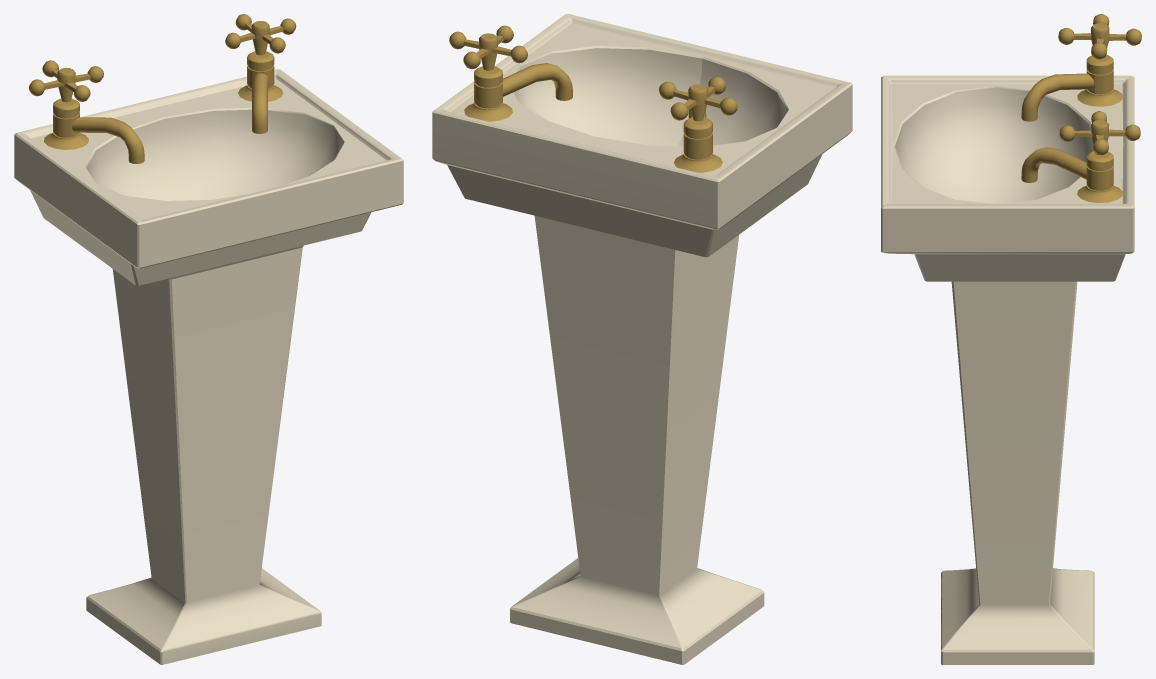
The model's file is BathroomSink.fbx.
3 renders of one model, left to right at view 1: azimuth 30°, elevation 25°; view 2: azimuth 150°, elevation 25°; view 3: azimuth 270°, elevation 25°, orthographic. The views are drawn at different scales.
Visible parts, largest first — view 1: Bathroom_Sink4:polySurface107; view 2: Bathroom_Sink4:polySurface107; view 3: Bathroom_Sink4:polySurface107.
Boxes of the visible parts, x1,y1,x2,y2 form: Bathroom_Sink4:polySurface107: (14, 14, 403, 664); Bathroom_Sink4:polySurface107: (432, 14, 852, 664); Bathroom_Sink4:polySurface107: (881, 14, 1141, 664).
Size of the model in its own units: 1.76 by 3.41 by 1.47.
